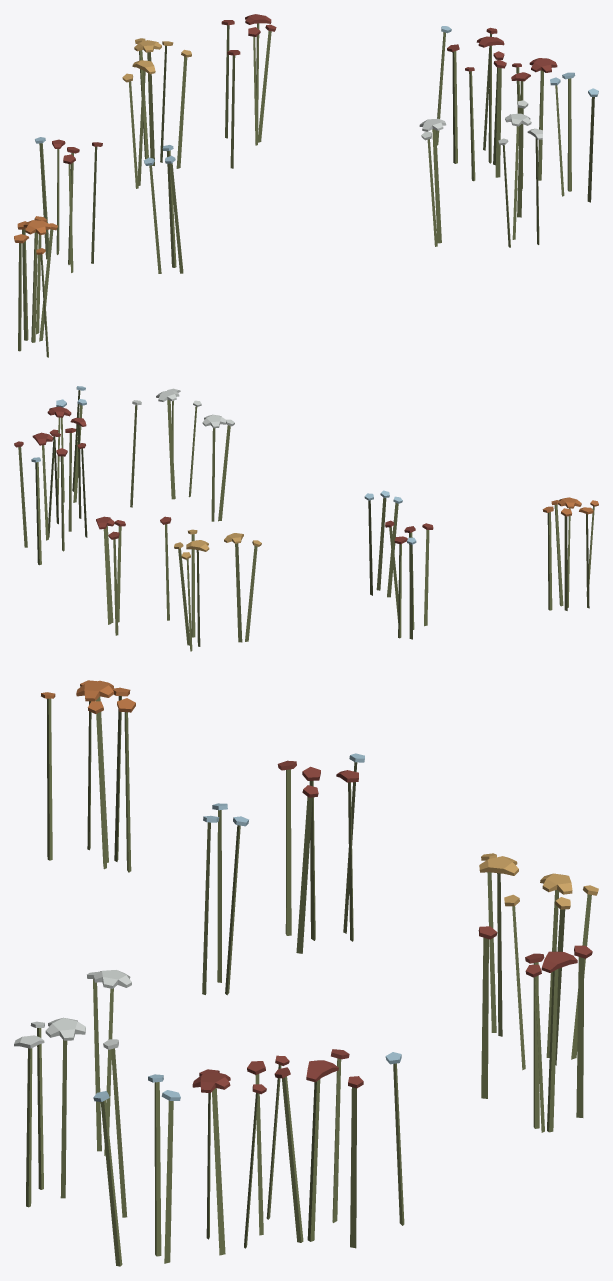
Rendered from SM_Env_Flowers_Large_02.obj.
3 views of the same model, one above another, from view 1: azimuth 30°, elevation 25°; view 2: azimuth 150°, elevation 25°; view 3: azimuth 270°, elevation 25° (orthographic). The views are drawn at different scales.
Visible parts, largest first — view 1: SM_Env_Flowers_Large_02_0; view 2: SM_Env_Flowers_Large_02_0; view 3: SM_Env_Flowers_Large_02_0.
Part boxes in pixels (x1=…): SM_Env_Flowers_Large_02_0: x1=14, y1=14, x2=598, y2=357; SM_Env_Flowers_Large_02_0: x1=14, y1=386, x2=598, y2=651; SM_Env_Flowers_Large_02_0: x1=14, y1=680, x2=598, y2=1266.
Bounding box in the file's own units: 6.91 × 1.36 × 4.05.
Materials: 1 (1 with a texture image).
